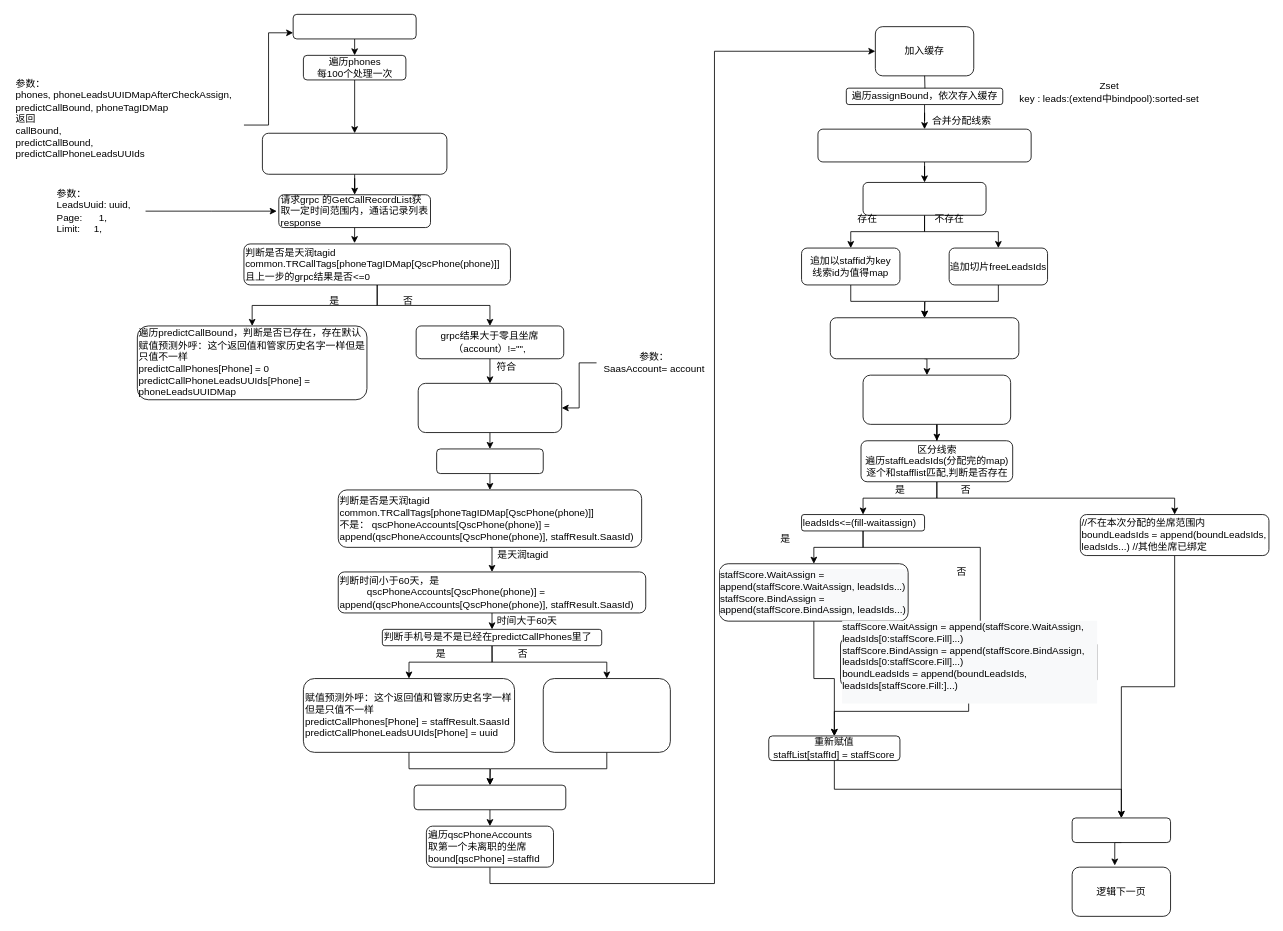
The diagram is 1283 pixels wide and 931 high, and some of its shapes have lost their labels. The box of each missing label's shape, as (x1, y1, x2, y2) in pixels:
merge := b.mergeMap(staffAttachBound, salesBound, assignBound, callBound): (817, 128, 1031, 162)
判断是否是天润tag: (1071, 817, 1171, 843)
批量查询uuid,更新leads_public表 state=24暂时不分配 staffid=0 extendIndex="YCWH": (862, 374, 1011, 424)
根据通话记录时间和当前时间获取时间间隔: (436, 448, 543, 474)
绑定管家 判断qscPhoneAccounts是大于零: (413, 784, 566, 810)
调用grpc的GetSaasInfoByAccount接口 根据坐席账号获取坐席信息 返回staffResult: (417, 383, 562, 433)
过滤通话记录 call->checkBindByCall: (292, 14, 416, 39)
追加qscPhoneAccounts: (542, 678, 670, 752)
遍历leadsUUIDPhoneMap(参数 phoneLeadsUUIDMapAfterCheckAssign ） 的phoneid对应的uuid: (262, 132, 447, 174)
遍历predictCallBound 通过predictCallPhoneLeadsUUIds获取uuid，追加成切片列表: (829, 317, 1019, 359)
遍历qscPhoneLeadsIds 和merge匹配: (862, 182, 986, 215)
